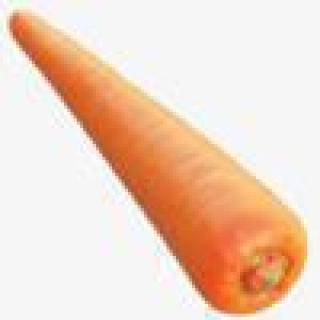Wortel: (1, 4, 311, 311)
